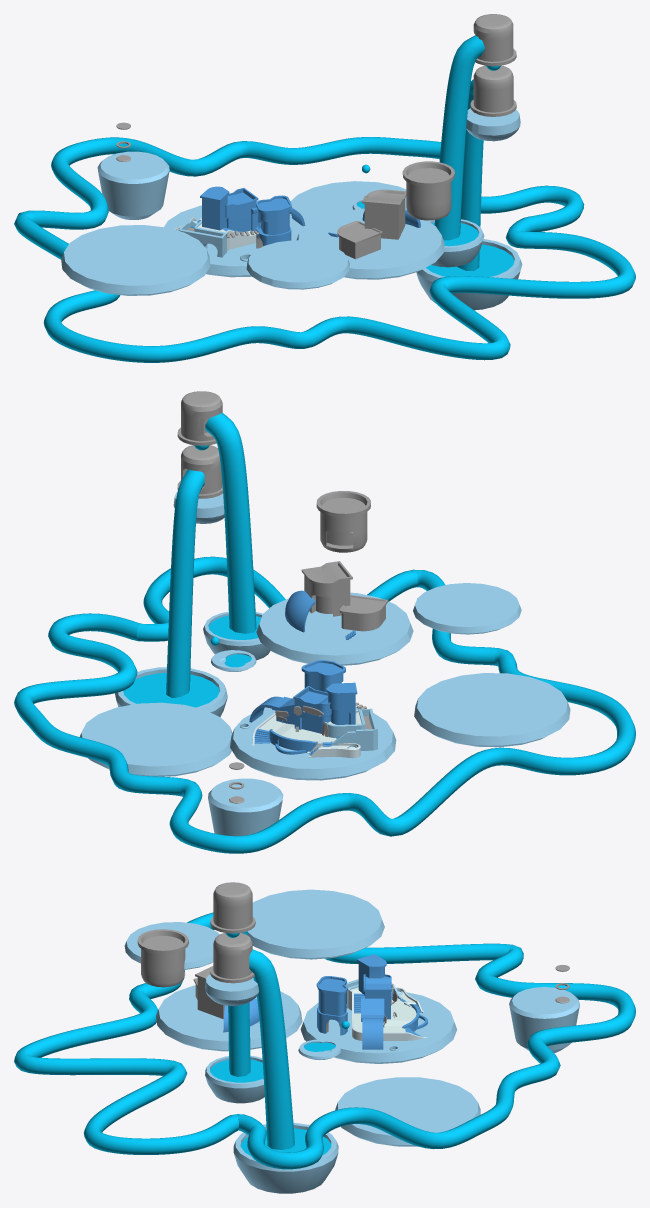
File: Whitebox 2.fbx
3 renders of one model, top to bottom at view 1: azimuth 30°, elevation 25°; view 2: azimuth 150°, elevation 25°; view 3: azimuth 270°, elevation 25°, orthographic. The views are drawn at different scales.
Parts seen in each view (by area): view 1: sweep4, Platform_4, Platform5, Waterfall, Platform6, Platform1, Platform_6, pCylinder3, Platform_3, Waterfall1, pCylinder10, Platform2 (+9 smaller); view 2: sweep4, Platform_4, Platform_3, Platform5, Waterfall, Waterfall1, Platform2, Platform6, Platform1, Platform_6, pCylinder3, pCube66 (+11 smaller); view 3: sweep4, Platform_4, Platform_3, Waterfall1, Platform2, Platform5, Platform_6, Platform1, pCylinder3, Platform_7, aterfallHolder, Platform6 (+11 smaller).
Boxes of the visible parts, left/top/right/bottom form: sweep4: left=14, top=137, right=635, bottom=362; Platform_4: left=61, top=225, right=210, bottom=295; Platform5: left=296, top=208, right=444, bottom=279; Waterfall: left=434, top=35, right=485, bottom=240; Platform6: left=246, top=240, right=349, bottom=289; Platform1: left=97, top=151, right=169, bottom=219; Platform_6: left=416, top=239, right=522, bottom=310; pCylinder3: left=402, top=161, right=454, bottom=220; Platform_3: left=290, top=181, right=427, bottom=222; Waterfall1: left=457, top=79, right=483, bottom=270; pCylinder10: left=470, top=65, right=516, bottom=116; Platform2: left=164, top=205, right=308, bottom=277; sweep4: left=14, top=556, right=635, bottom=853; Platform_4: left=414, top=673, right=570, bottom=747; Platform_3: left=80, top=702, right=232, bottom=776; Platform5: left=256, top=592, right=413, bottom=665; Waterfall: left=205, top=413, right=256, bottom=633; Waterfall1: left=166, top=469, right=204, bottom=697; Platform2: left=230, top=707, right=396, bottom=780; Platform6: left=413, top=583, right=521, bottom=634; Platform1: left=208, top=778, right=283, bottom=835; Platform_6: left=115, top=667, right=227, bottom=716; pCylinder3: left=316, top=491, right=370, bottom=552; pCube66: left=301, top=561, right=352, bottom=616; sweep4: left=14, top=912, right=635, bottom=1169; Platform_4: left=247, top=889, right=384, bottom=959; Platform_3: left=335, top=1077, right=480, bottom=1146; Waterfall1: left=249, top=949, right=294, bottom=1149; Platform2: left=300, top=992, right=456, bottom=1063; Platform5: left=156, top=985, right=302, bottom=1051; Platform_6: left=233, top=1122, right=338, bottom=1193; Platform1: left=509, top=987, right=579, bottom=1052; pCylinder3: left=137, top=929, right=188, bottom=987; Platform_7: left=205, top=1055, right=264, bottom=1103; aterfallHolder: left=210, top=882, right=255, bottom=933; Platform6: left=124, top=922, right=219, bottom=969.
Size of the model in its own units: 550 by 288 by 564.
